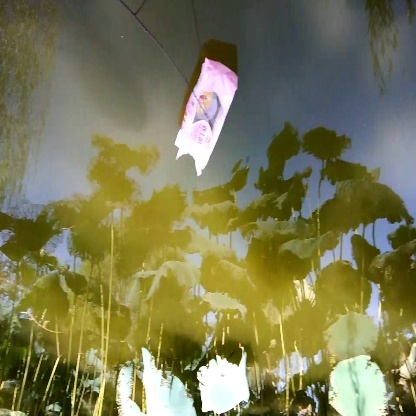plastic-bag: (174, 56, 241, 180)
